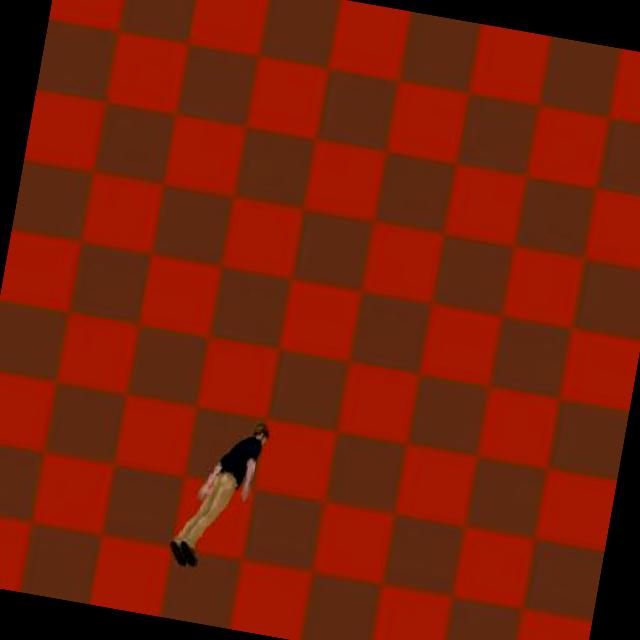Person: (166, 408, 276, 580)
